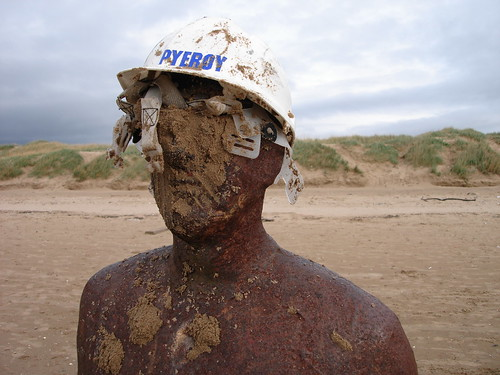person hardhat: (75, 16, 444, 375)
